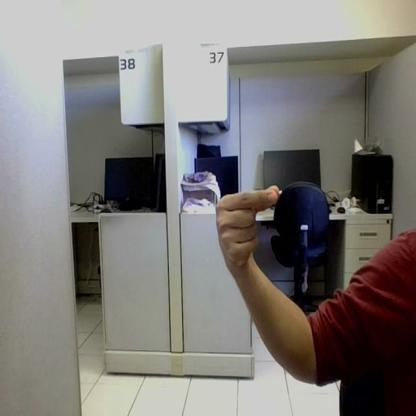G: (217, 190, 281, 266)
